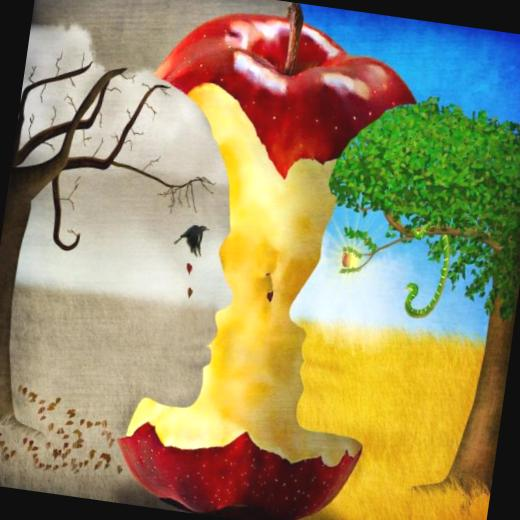Apple: (96, 0, 427, 520)
